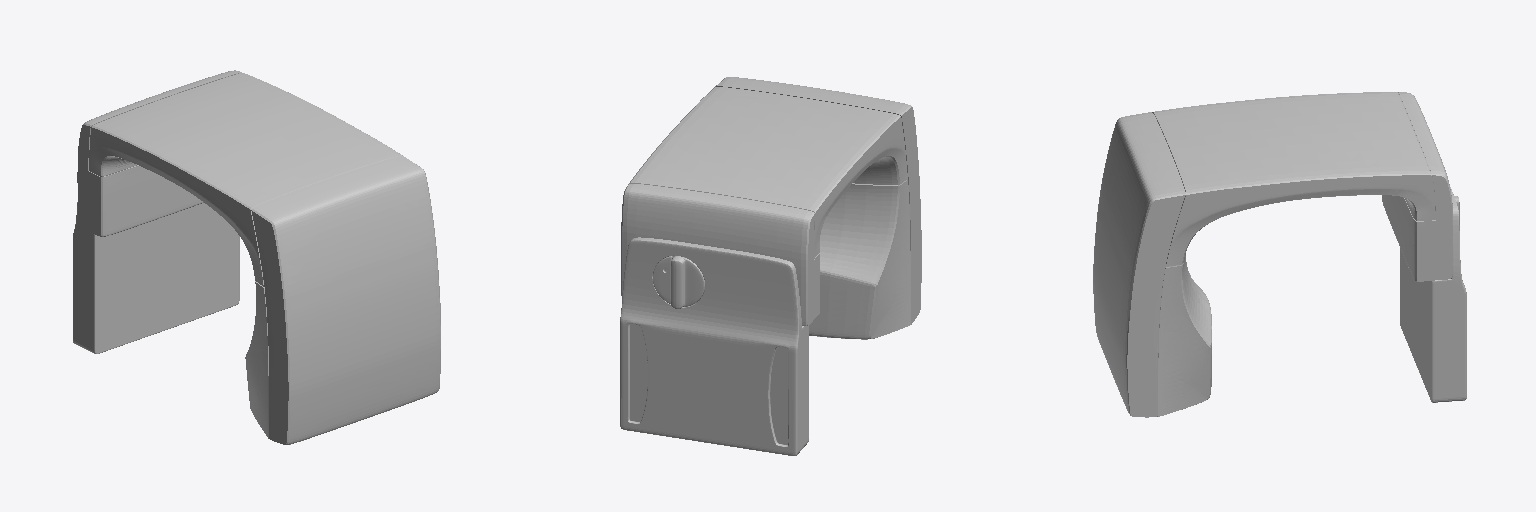
Rendered from PanoModule.obj.
3 views of the same model, side by side, from view 1: azimuth 30°, elevation 25°; view 2: azimuth 150°, elevation 25°; view 3: azimuth 270°, elevation 25° (orthographic).
Visible parts, largest first — view 1: xray36; view 2: xray36; view 3: xray36.
Part boxes in pixels (x1,y1,x2,y2): xray36: (73,70,440,444); xray36: (620,77,921,455); xray36: (1093,92,1466,417).
Bounding box in the file's own units: 501 × 522 × 743.